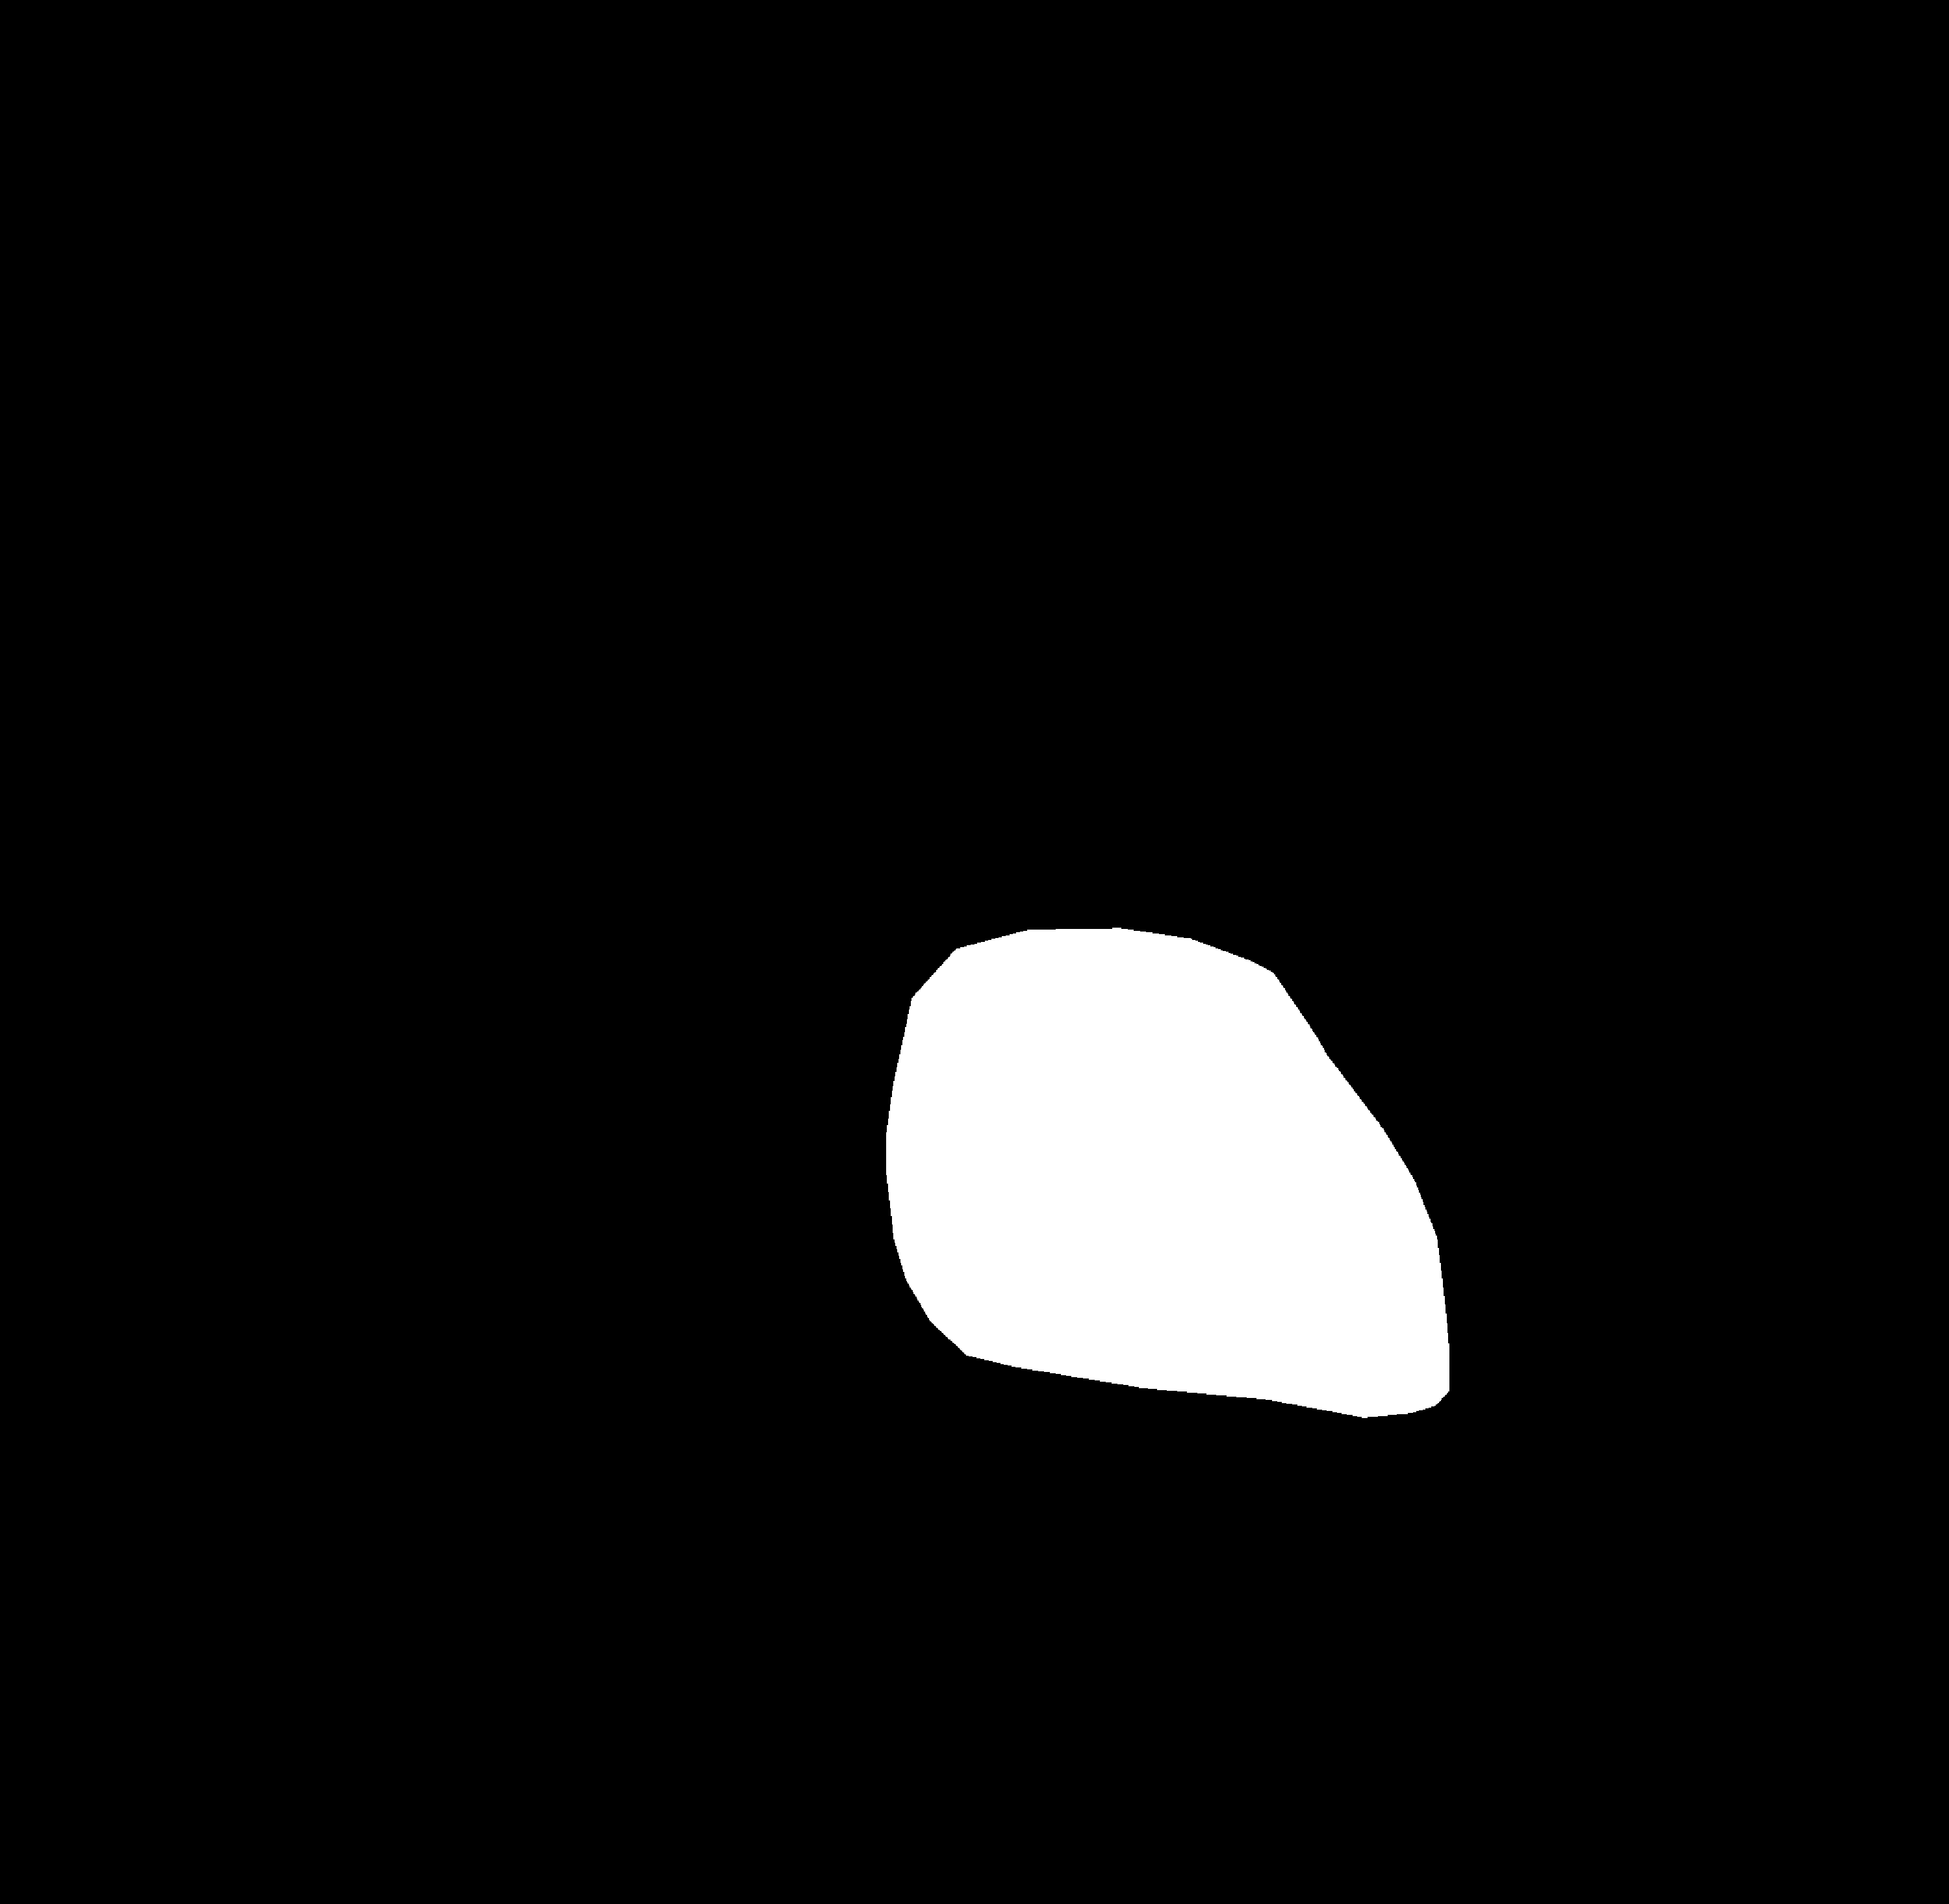heart: (886, 954, 1438, 1395)
left_lung: (350, 260, 974, 1569)
right_lung: (1133, 256, 1778, 1585)
